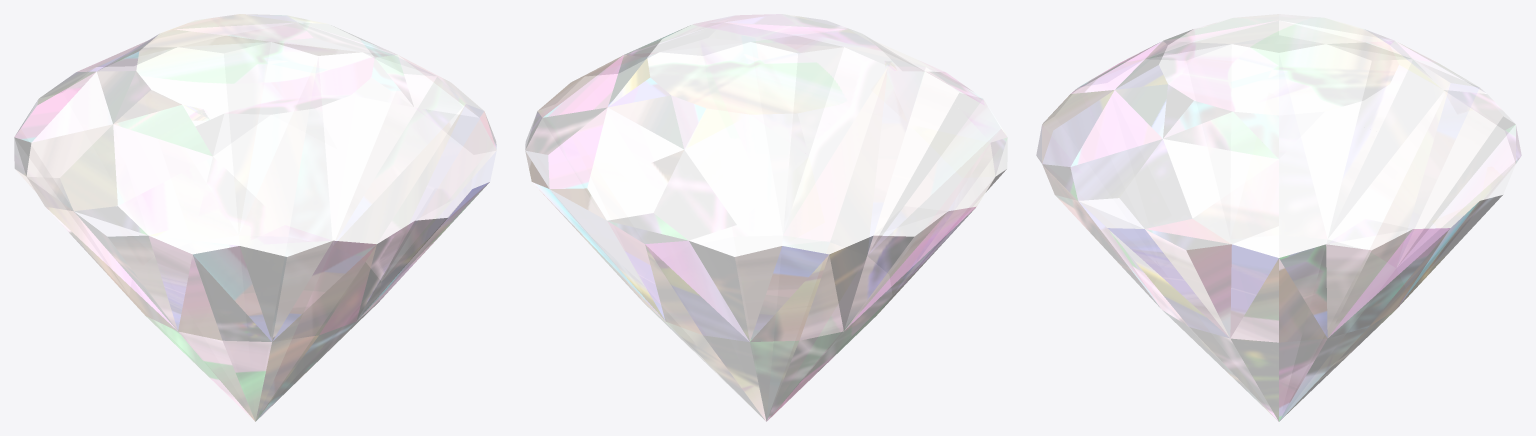
Rendered from ehsan.gltf.
3 views of the same model, side by side, from view 1: azimuth 30°, elevation 25°; view 2: azimuth 150°, elevation 25°; view 3: azimuth 270°, elevation 25° (orthographic).
Parts seen in each view (by area): view 1: Diamond; view 2: Diamond; view 3: Diamond.
Part boxes in pixels (x1,y1,x2,y2): Diamond: [14, 14, 496, 421]; Diamond: [525, 14, 1007, 421]; Diamond: [1036, 14, 1521, 421].
Bounding box in the file's own units: 2 × 1.62 × 2.
Materials: 1 (1 with a texture image).
